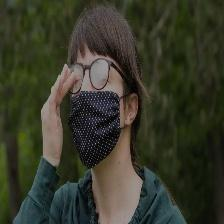Person: (37, 22, 173, 224)
